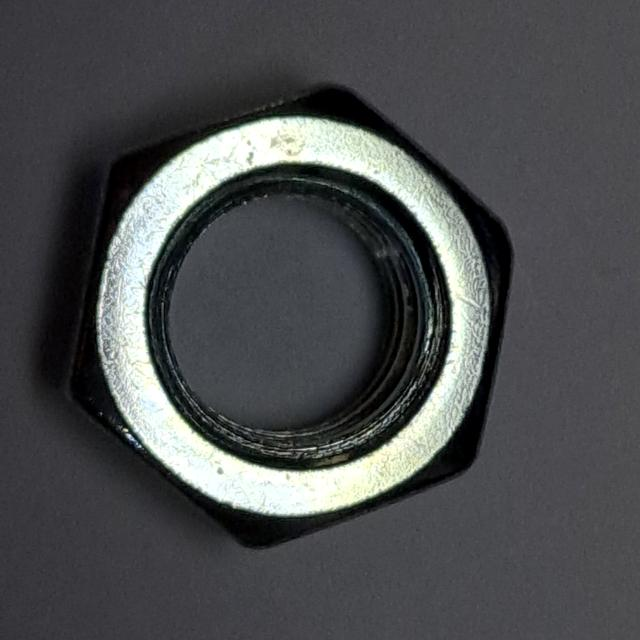Excellent: (43, 66, 532, 570)
